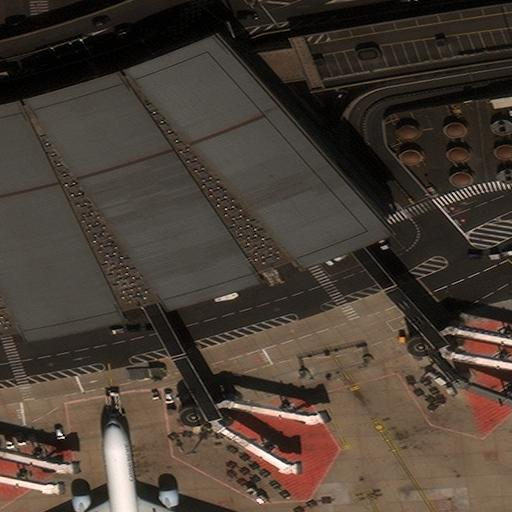Large Civil Transport: (34, 418, 225, 511)
